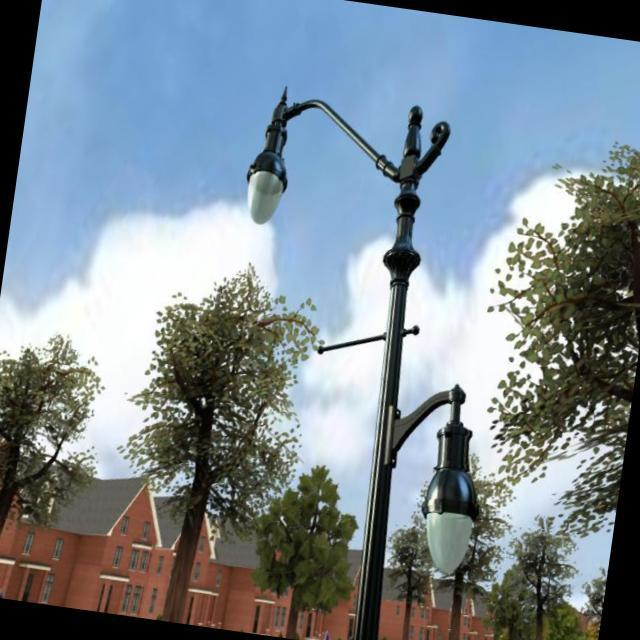off: (410, 378, 510, 614), (232, 78, 336, 272)
